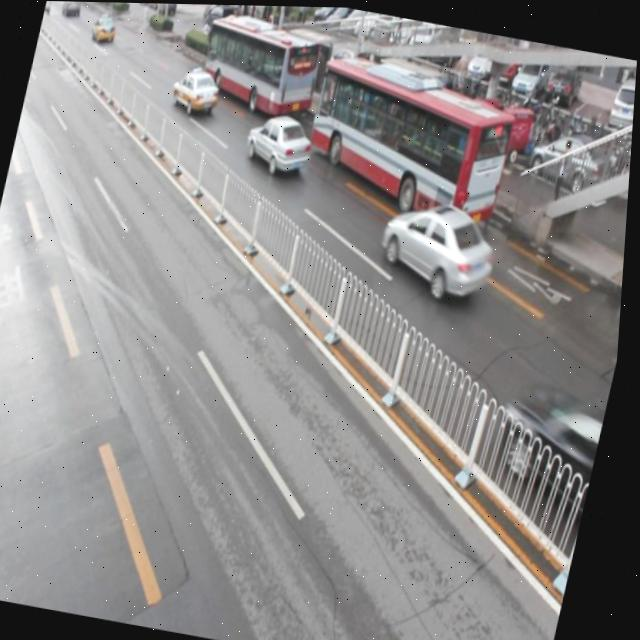car: (376, 194, 506, 302), (241, 107, 320, 178), (170, 62, 224, 117)
van: (300, 49, 523, 225), (194, 6, 328, 122)
